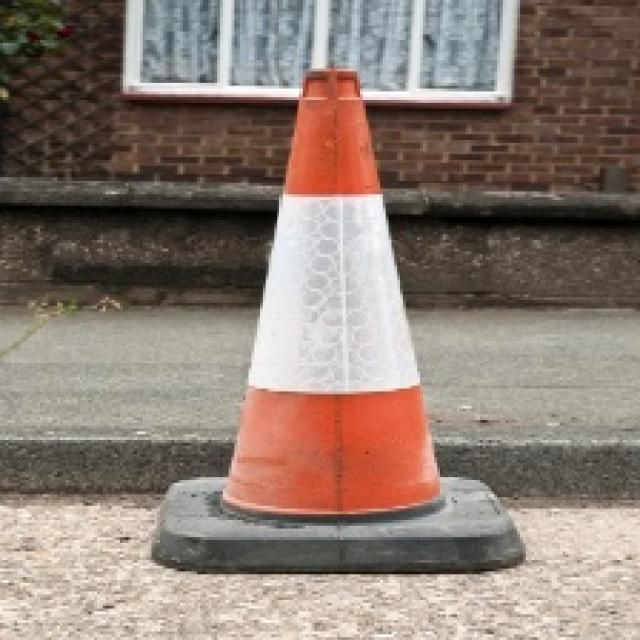cone: (148, 59, 533, 580)
